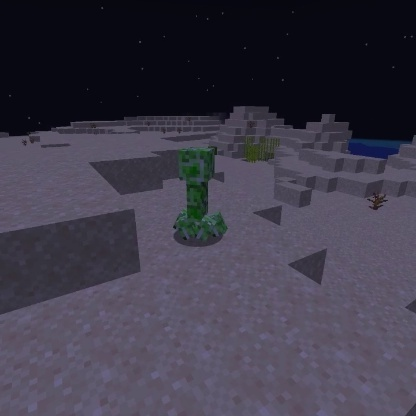creeper: (169, 143, 231, 247)
